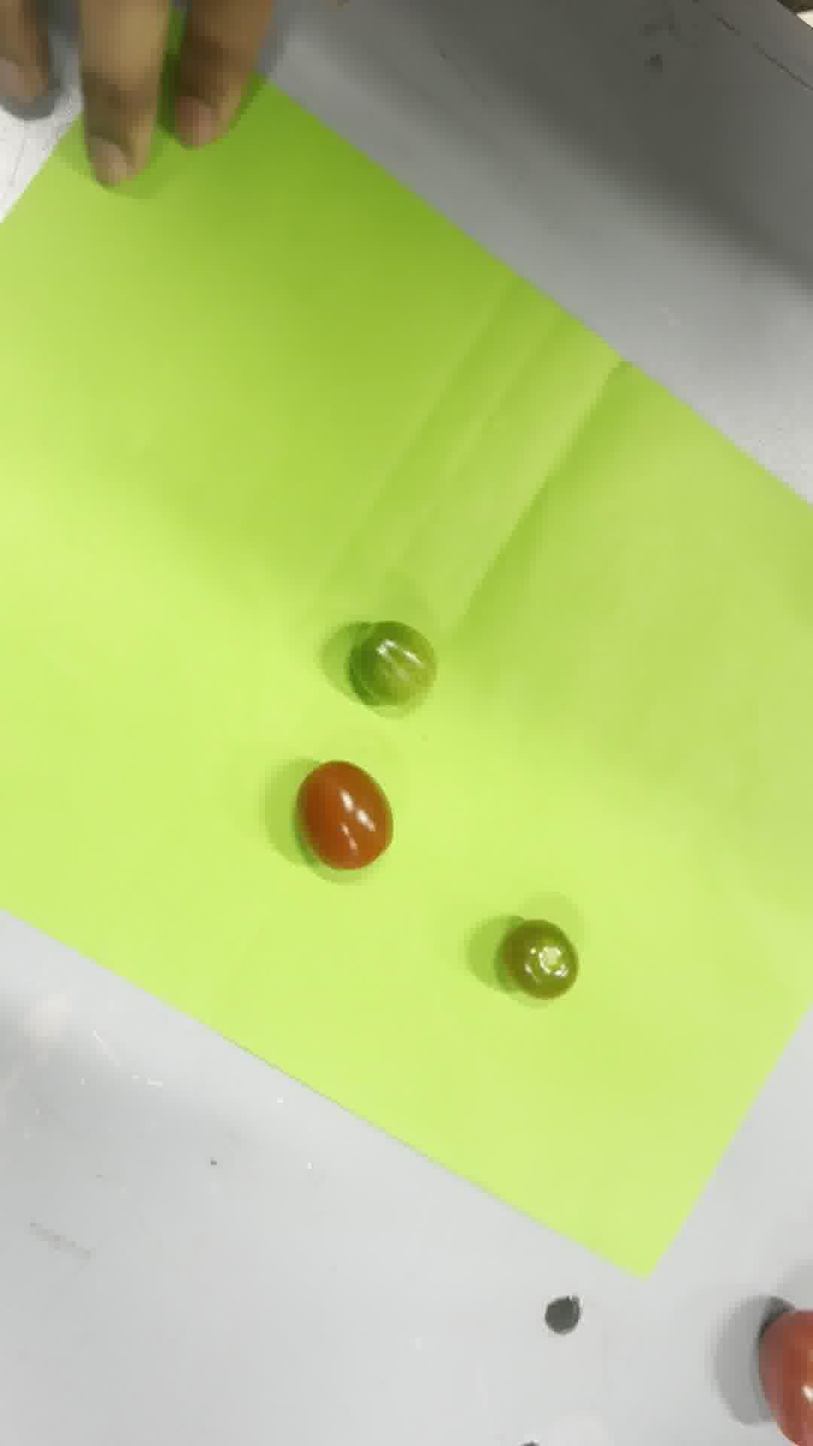green_cherry_tomato: (349, 621, 436, 705)
red_cherry_tomato: (297, 761, 392, 869)
yellow_cherry_tomato: (500, 920, 578, 999)
